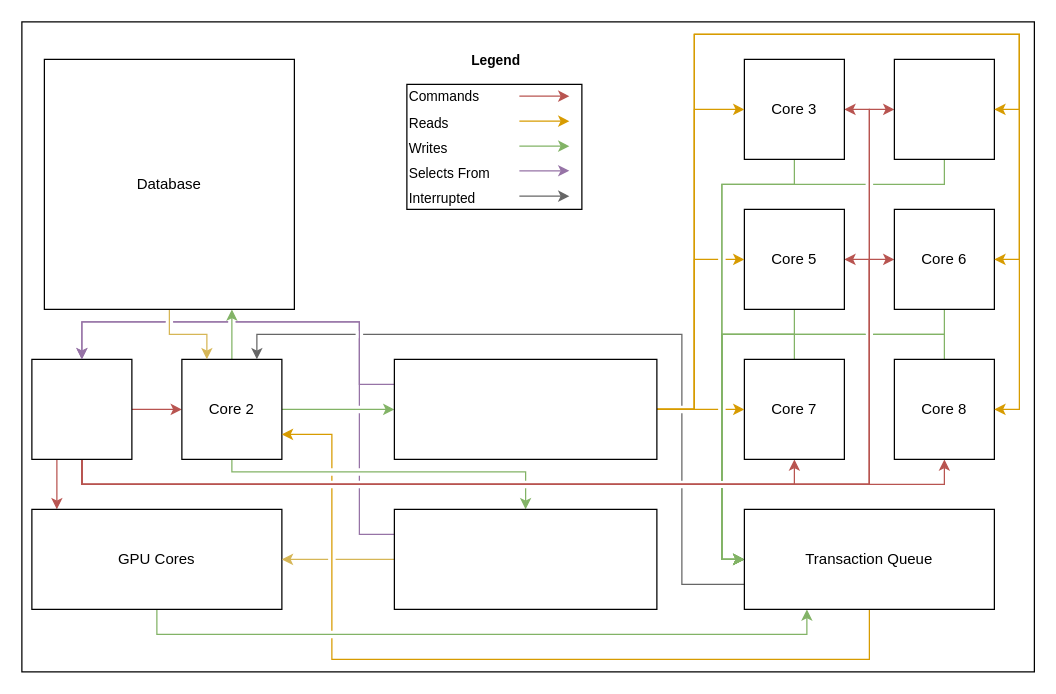
Some shapes in this 1056 by 694 pixel diagram are drawn without their labels. Here are the shapes that lost their labels. From the top down, the box of each, then its label:
(893, 58, 994, 159): Core 4
(31, 358, 132, 459): Core 1
(393, 358, 657, 459): Complex Ops Queue
(393, 508, 657, 609): Simple Ops Queue
